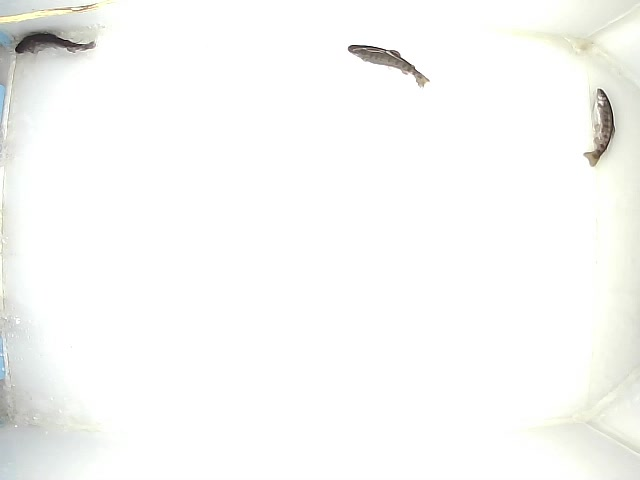fish: (347, 44, 431, 90), (582, 86, 616, 169), (14, 32, 97, 56)
